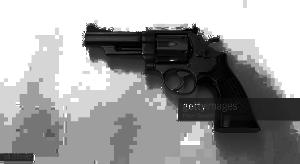handgun: (83, 15, 267, 131)
